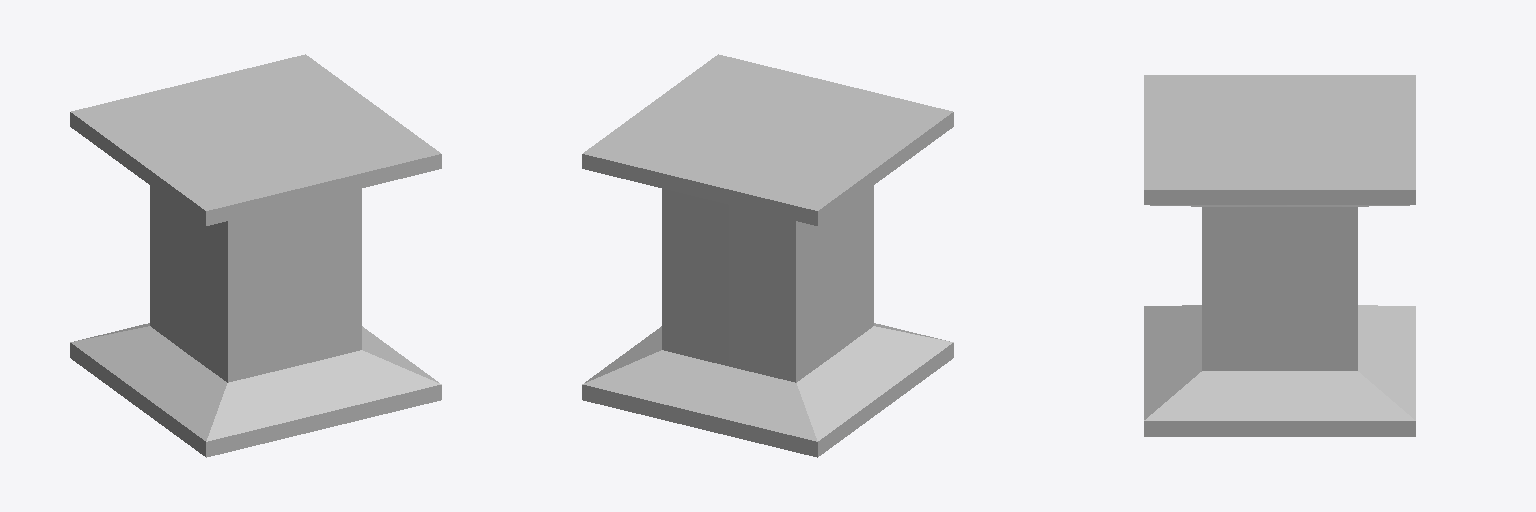
Rendered from ChessTable.obj.
3 renders of one model, left to right at view 1: azimuth 30°, elevation 25°; view 2: azimuth 150°, elevation 25°; view 3: azimuth 270°, elevation 25°, orthographic.
Visible parts, largest first — view 1: ChessTable; view 2: ChessTable; view 3: ChessTable.
Boxes of the visible parts, x1,y1,x2,y2 form: ChessTable: [70, 54, 441, 457]; ChessTable: [582, 54, 953, 457]; ChessTable: [1144, 75, 1415, 436].
Size of the model in its own units: 1 by 1 by 1.